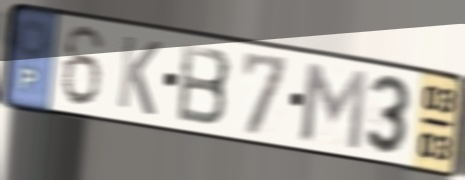3: (364, 71, 412, 158)
6: (59, 23, 107, 111)
7: (239, 47, 290, 139)
B: (174, 40, 235, 129)
K: (114, 31, 165, 119)
M: (298, 58, 371, 154)
